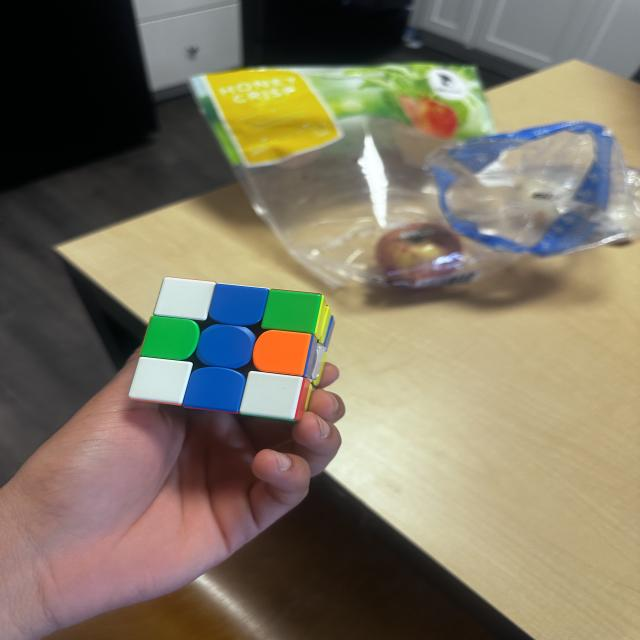sticker: (126, 354, 195, 407), (239, 369, 306, 422), (183, 366, 247, 416), (260, 289, 326, 336), (151, 276, 217, 322), (251, 329, 314, 377), (195, 323, 258, 370), (139, 315, 200, 361), (208, 284, 268, 328)
